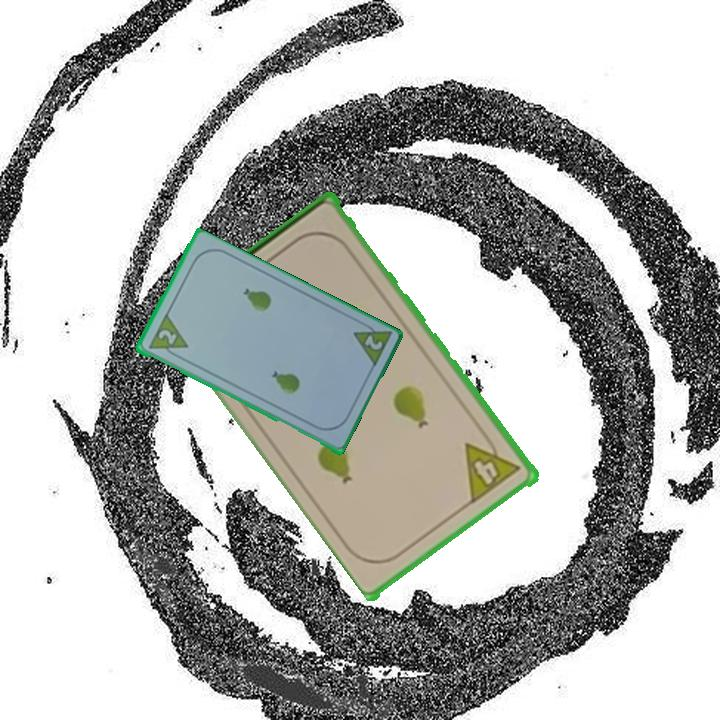2p: (154, 326, 179, 348), (360, 332, 385, 353)
4p: (461, 429, 524, 506)
